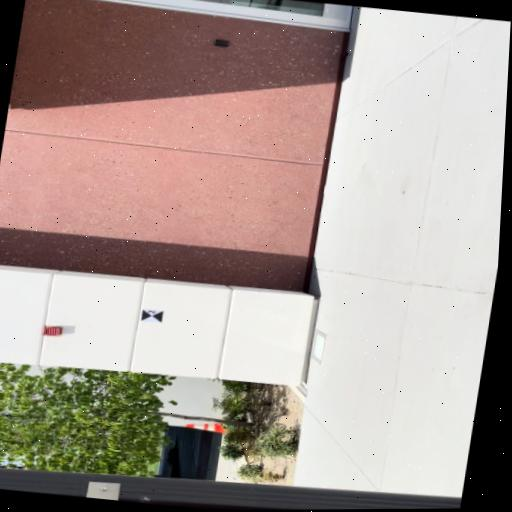target2: (141, 308, 165, 324)
